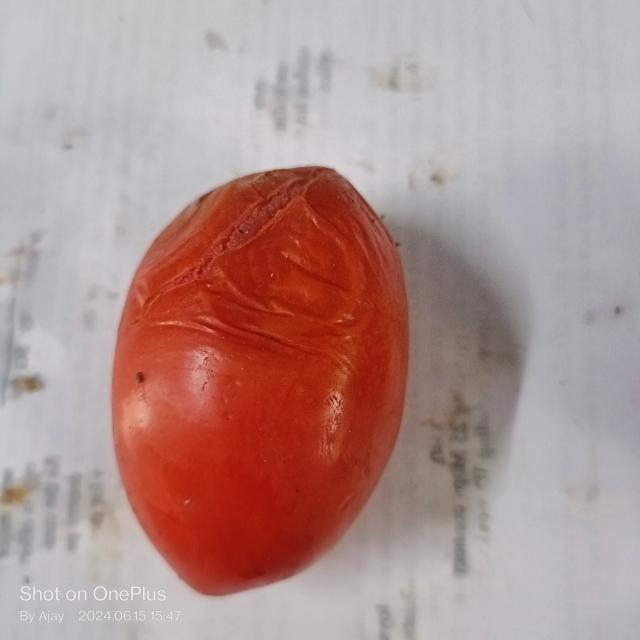Botrytis: (148, 171, 331, 297)
